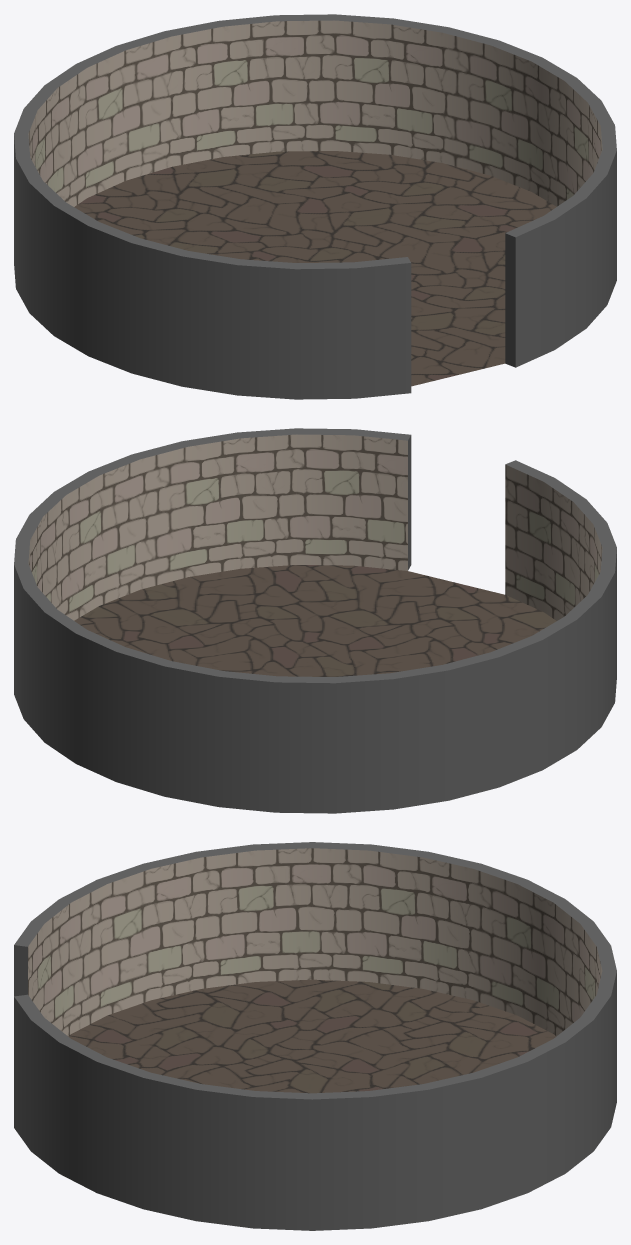
The model's file is WB_round_room.fbx.
3 renders of one model, top to bottom at view 1: azimuth 30°, elevation 25°; view 2: azimuth 150°, elevation 25°; view 3: azimuth 270°, elevation 25°, orthographic.
Visible parts, largest first — view 1: WB_round_room; view 2: WB_round_room; view 3: WB_round_room.
Part boxes in pixels (x1,y1,x2,y2): WB_round_room: [14, 14, 616, 399]; WB_round_room: [14, 428, 616, 813]; WB_round_room: [14, 842, 616, 1230].
Size of the model in its own units: 420 by 100 by 416.
